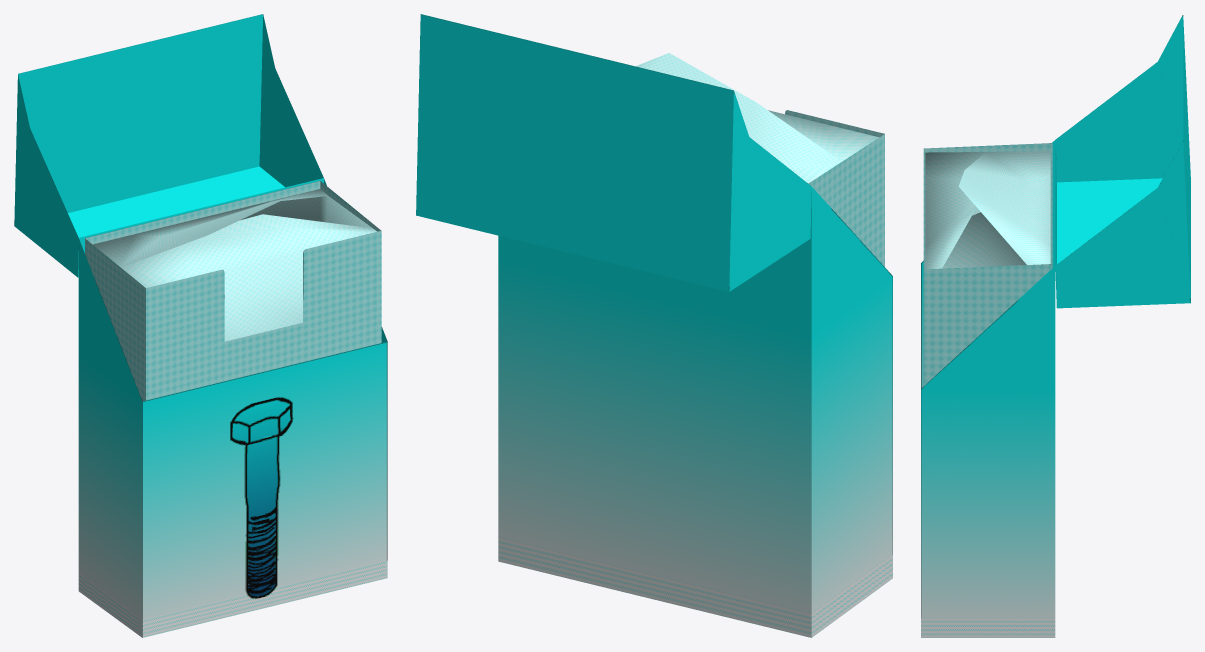
File: Пачка_реимп2.fbx
3 views of the same model, side by side, from view 1: azimuth 30°, elevation 25°; view 2: azimuth 150°, elevation 25°; view 3: azimuth 270°, elevation 25° (orthographic). The views are drawn at different scales.
Visible parts, largest first — view 1: Пачка; view 2: Пачка; view 3: Пачка.
Part boxes in pixels (x1,y1,x2,y2): Пачка: [14, 14, 387, 637]; Пачка: [416, 14, 892, 637]; Пачка: [921, 15, 1190, 637].
Bounding box in the file's own units: 6 × 5.43 × 11.06.
1 material, 1 textured.
